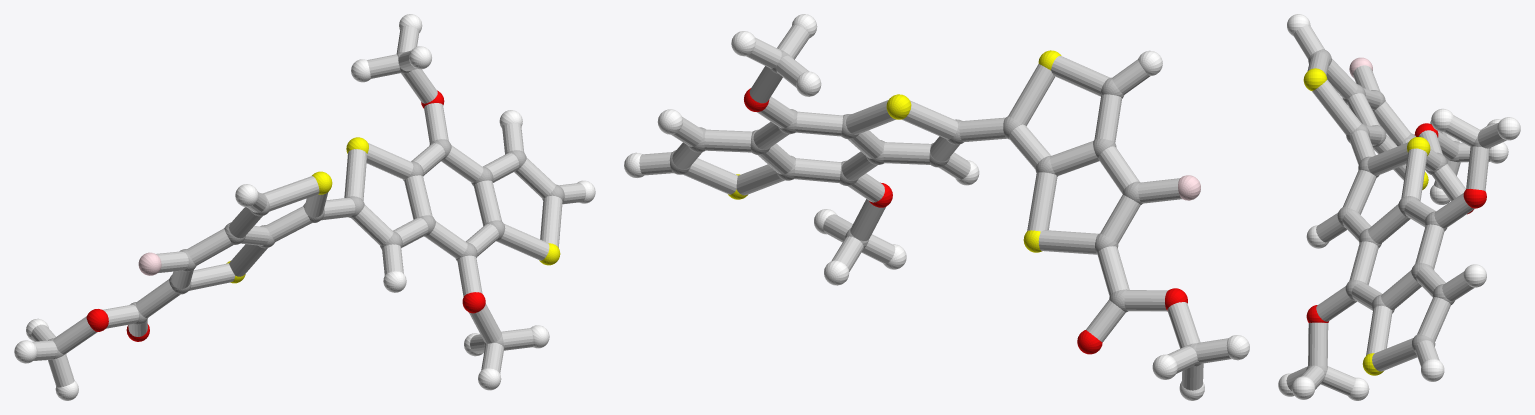
File: Dimethoxy_Benzodithiophene_Phi_0_Theta_100_Methylcarbonyl_3_Fluoro_Thienothiophene.glb
3 renders of one model, left to right at view 1: azimuth 30°, elevation 25°; view 2: azimuth 150°, elevation 25°; view 3: azimuth 270°, elevation 25°, orthographic. The views are drawn at different scales.
Parts seen in each view (by area): view 1: grp15205, grp8689, grp1, grp13395, grp7241; view 2: grp15205, grp8689, grp1, grp13395, grp7241; view 3: grp15205, grp8689, grp1, grp7241, grp13395, grp14843.
Boxes of the visible parts, x1,y1,x2,y2 form: grp15205: (31,26,585,387); grp8689: (14,14,595,400); grp1: (48,52,564,358); grp13395: (86,90,485,341); grp7241: (226,137,560,283); grp15205: (639,24,1231,390); grp8689: (624,14,1249,400); grp1: (669,49,1201,366); grp13395: (744,88,1187,354); grp7241: (728,50,1061,252); grp15205: (1286,25,1506,395); grp8689: (1278,14,1520,400); grp1: (1306,49,1490,375); grp7241: (1303,68,1430,375); grp13395: (1306,123,1486,322); grp14843: (1349,57,1372,77).
Bounding box in the file's own units: 17.03 × 8.18 × 6.16.
